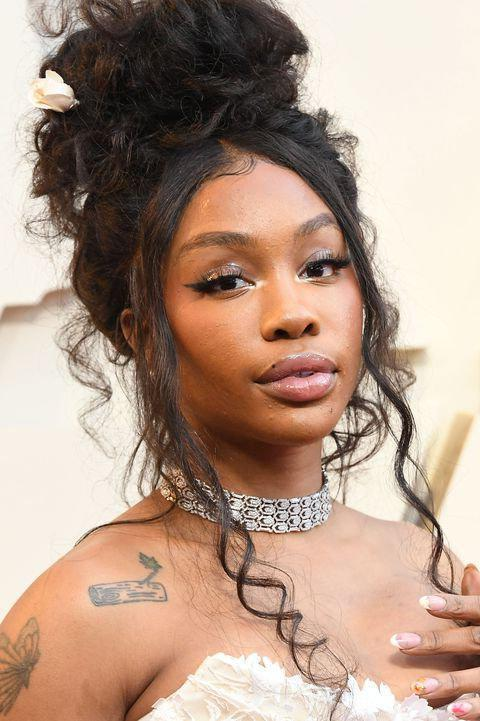Sober: (171, 200, 359, 418)
